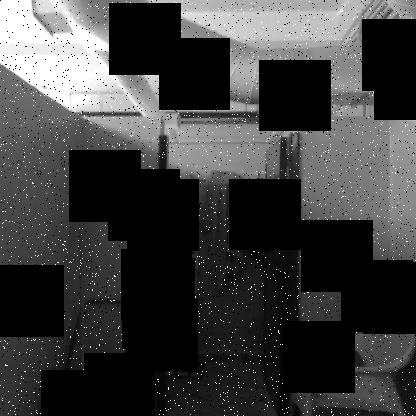Porte: (152, 129, 308, 416)
